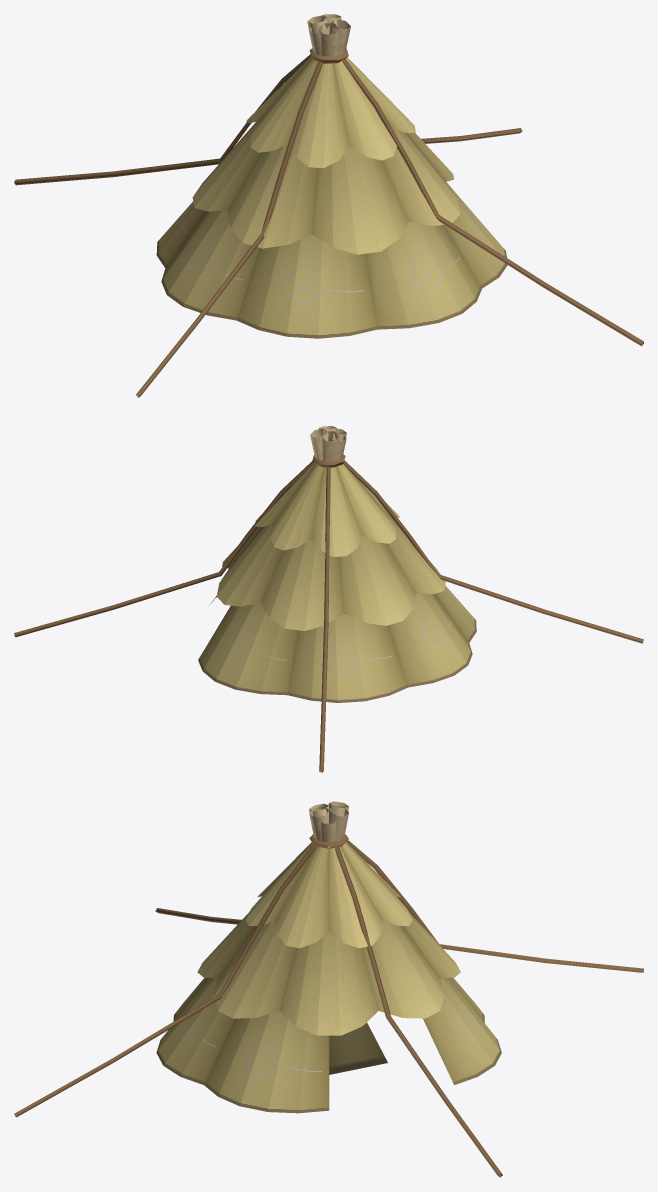
File: teepee2.glb
3 renders of one model, top to bottom at view 1: azimuth 30°, elevation 25°; view 2: azimuth 150°, elevation 25°; view 3: azimuth 270°, elevation 25°, orthographic. The views are drawn at different scales.
Parts seen in each view (by area): view 1: teepee2; view 2: teepee2; view 3: teepee2.
Part boxes in pixels (box(x1,y1,x2,y2)): teepee2: box(14, 14, 643, 397); teepee2: box(14, 426, 643, 772); teepee2: box(14, 801, 643, 1177).
Size of the model in its own units: 7.93 by 3.33 by 7.93.
2 materials, 2 textured.
